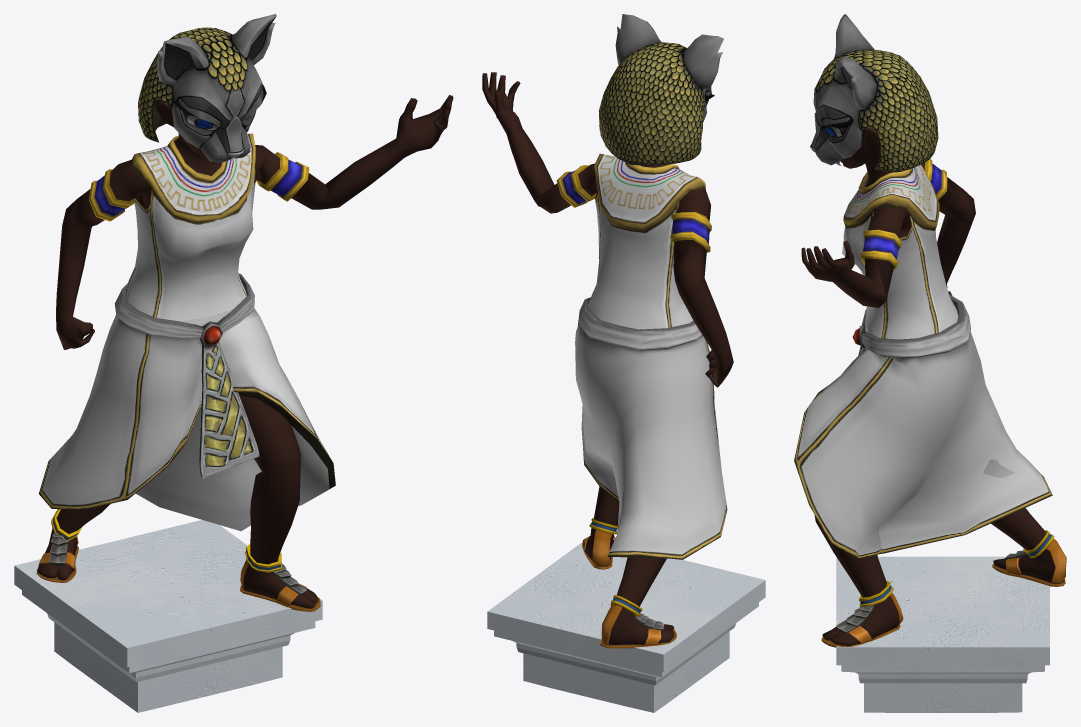
The model's file is egypt-bastet.glb.
3 renders of one model, left to right at view 1: azimuth 30°, elevation 25°; view 2: azimuth 150°, elevation 25°; view 3: azimuth 270°, elevation 25°, orthographic. The views are drawn at different scales.
Parts seen in each view (by area): view 1: F_Bastet_Lowerbody, land_egypt, F_Bastet_Upperbody, F_Bastet_Helmet, F_Bastet_Feet; view 2: F_Bastet_Lowerbody, land_egypt, F_Bastet_Upperbody, F_Bastet_Helmet, F_Bastet_Feet; view 3: F_Bastet_Lowerbody, land_egypt, F_Bastet_Upperbody, F_Bastet_Helmet, F_Bastet_Feet.
Part boxes in pixels (x1=…): F_Bastet_Lowerbody: x1=39, y1=273, x2=335, y2=564; land_egypt: x1=14, y1=520, x2=322, y2=712; F_Bastet_Upperbody: x1=56, y1=95, x2=453, y2=349; F_Bastet_Helmet: x1=138, y1=14, x2=276, y2=175; F_Bastet_Feet: x1=36, y1=509, x2=320, y2=611; F_Bastet_Lowerbody: x1=575, y1=297, x2=727, y2=606; land_egypt: x1=487, y1=542, x2=765, y2=712; F_Bastet_Upperbody: x1=482, y1=72, x2=733, y2=387; F_Bastet_Helmet: x1=598, y1=14, x2=723, y2=167; F_Bastet_Feet: x1=582, y1=517, x2=676, y2=648; F_Bastet_Lowerbody: x1=794, y1=294, x2=1052, y2=597; land_egypt: x1=836, y1=556, x2=1049, y2=712; F_Bastet_Upperbody: x1=801, y1=159, x2=975, y2=339; F_Bastet_Helmet: x1=810, y1=14, x2=938, y2=187; F_Bastet_Feet: x1=821, y1=530, x2=1066, y2=647.
Size of the model in its own units: 2.14 by 4.11 by 1.59.
Materials: 6 (5 with a texture image).
